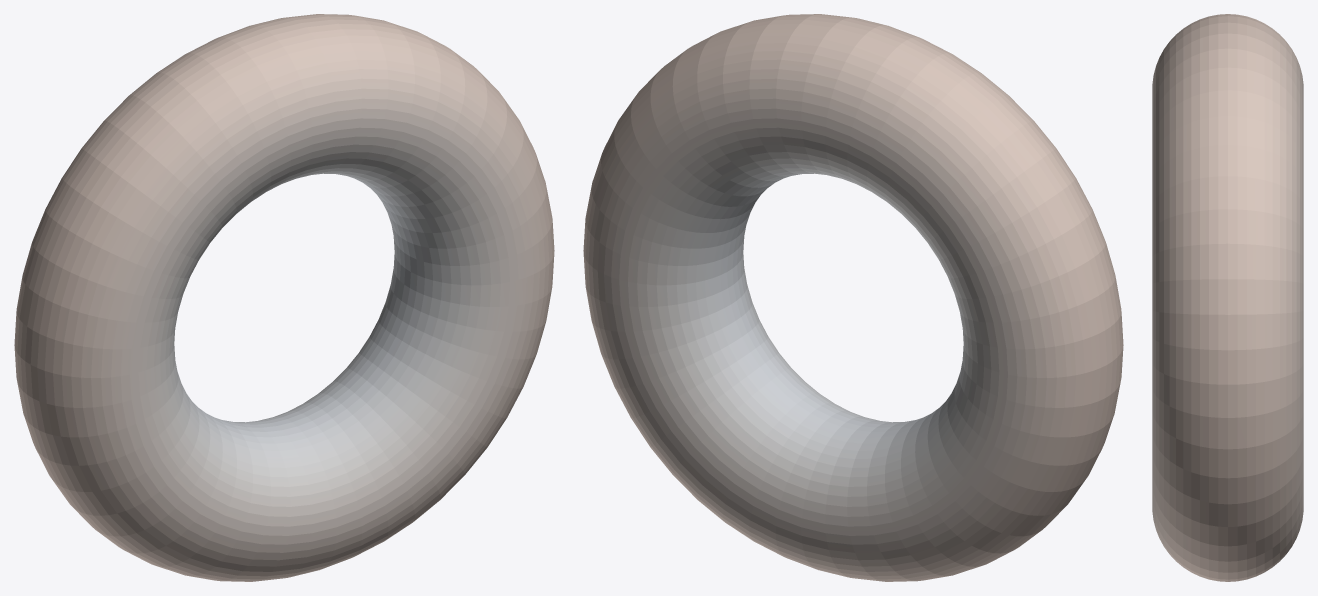
The picture shows the model from 3 angles, left to right: view 1: azimuth 30°, elevation 25°; view 2: azimuth 150°, elevation 25°; view 3: azimuth 270°, elevation 25°; orthographic projection. The views are drawn at different scales.
Parts seen in each view (by area): view 1: world; view 2: world; view 3: world.
Boxes of the visible parts, x1,y1,x2,y2 form: world: (14,14,554,581); world: (583,14,1123,581); world: (1152,14,1303,581).
Size of the model in its own units: 25.47 by 25.42 by 6.79.
